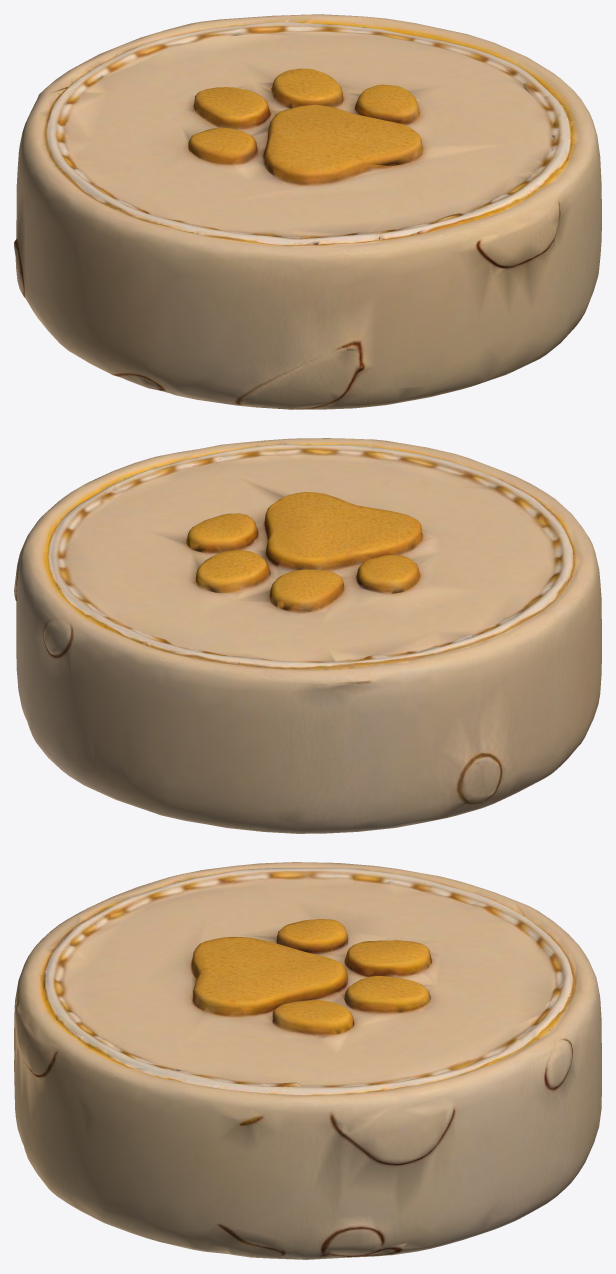
Rendered from space-normal.glb.
3 views of the same model, one above another, from view 1: azimuth 30°, elevation 25°; view 2: azimuth 150°, elevation 25°; view 3: azimuth 270°, elevation 25° (orthographic).
Visible parts, largest first — view 1: Mesh_0; view 2: Mesh_0; view 3: Mesh_0.
Part boxes in pixels (bbox=[...]): Mesh_0: bbox=[14, 14, 601, 409]; Mesh_0: bbox=[14, 438, 601, 833]; Mesh_0: bbox=[14, 862, 601, 1259].
Size of the model in its own units: 2 by 0.6788 by 2.
Materials: 1 (1 with a texture image).
